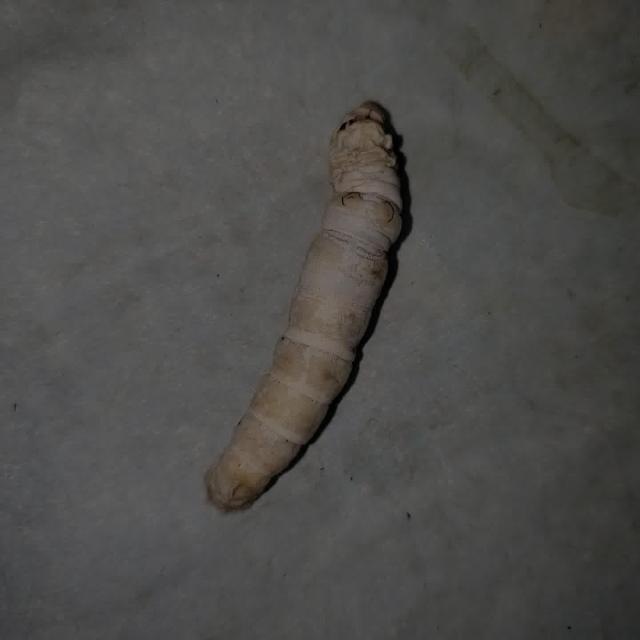Grasserie: (169, 64, 433, 538)
